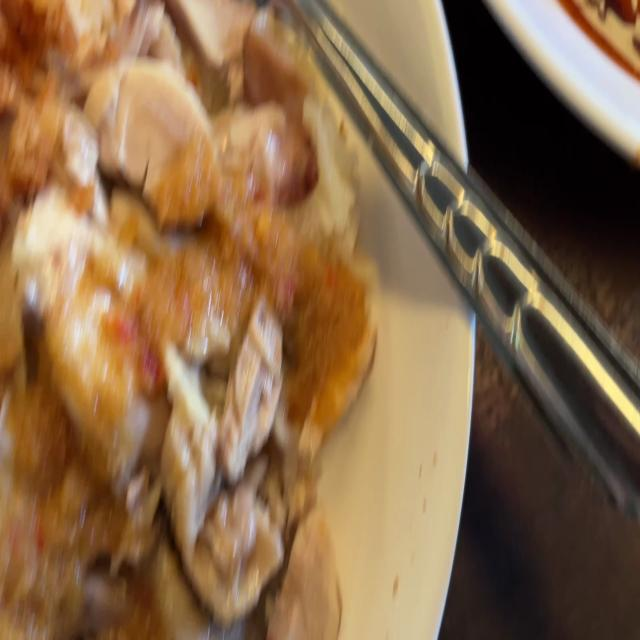boiled_chicken: (0, 0, 321, 637)
chicken_rice: (0, 0, 387, 640)
